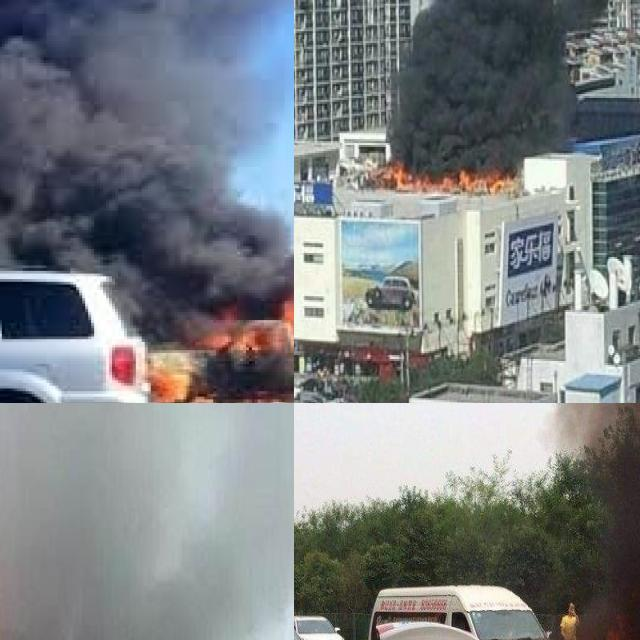fire: (147, 260, 294, 403), (384, 135, 524, 196)
smoke: (0, 0, 287, 314), (0, 403, 294, 640), (392, 0, 640, 168)
